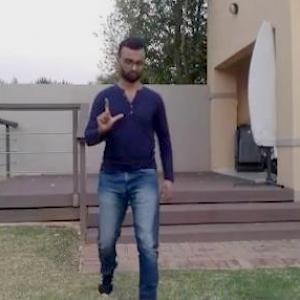land_hand: (91, 92, 130, 138)
